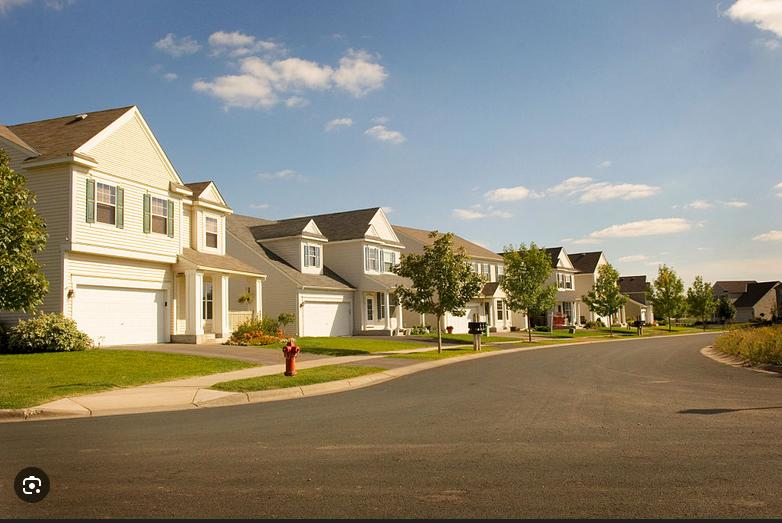casa: (8, 95, 266, 368), (266, 194, 409, 356), (412, 222, 526, 353), (529, 244, 583, 338)
